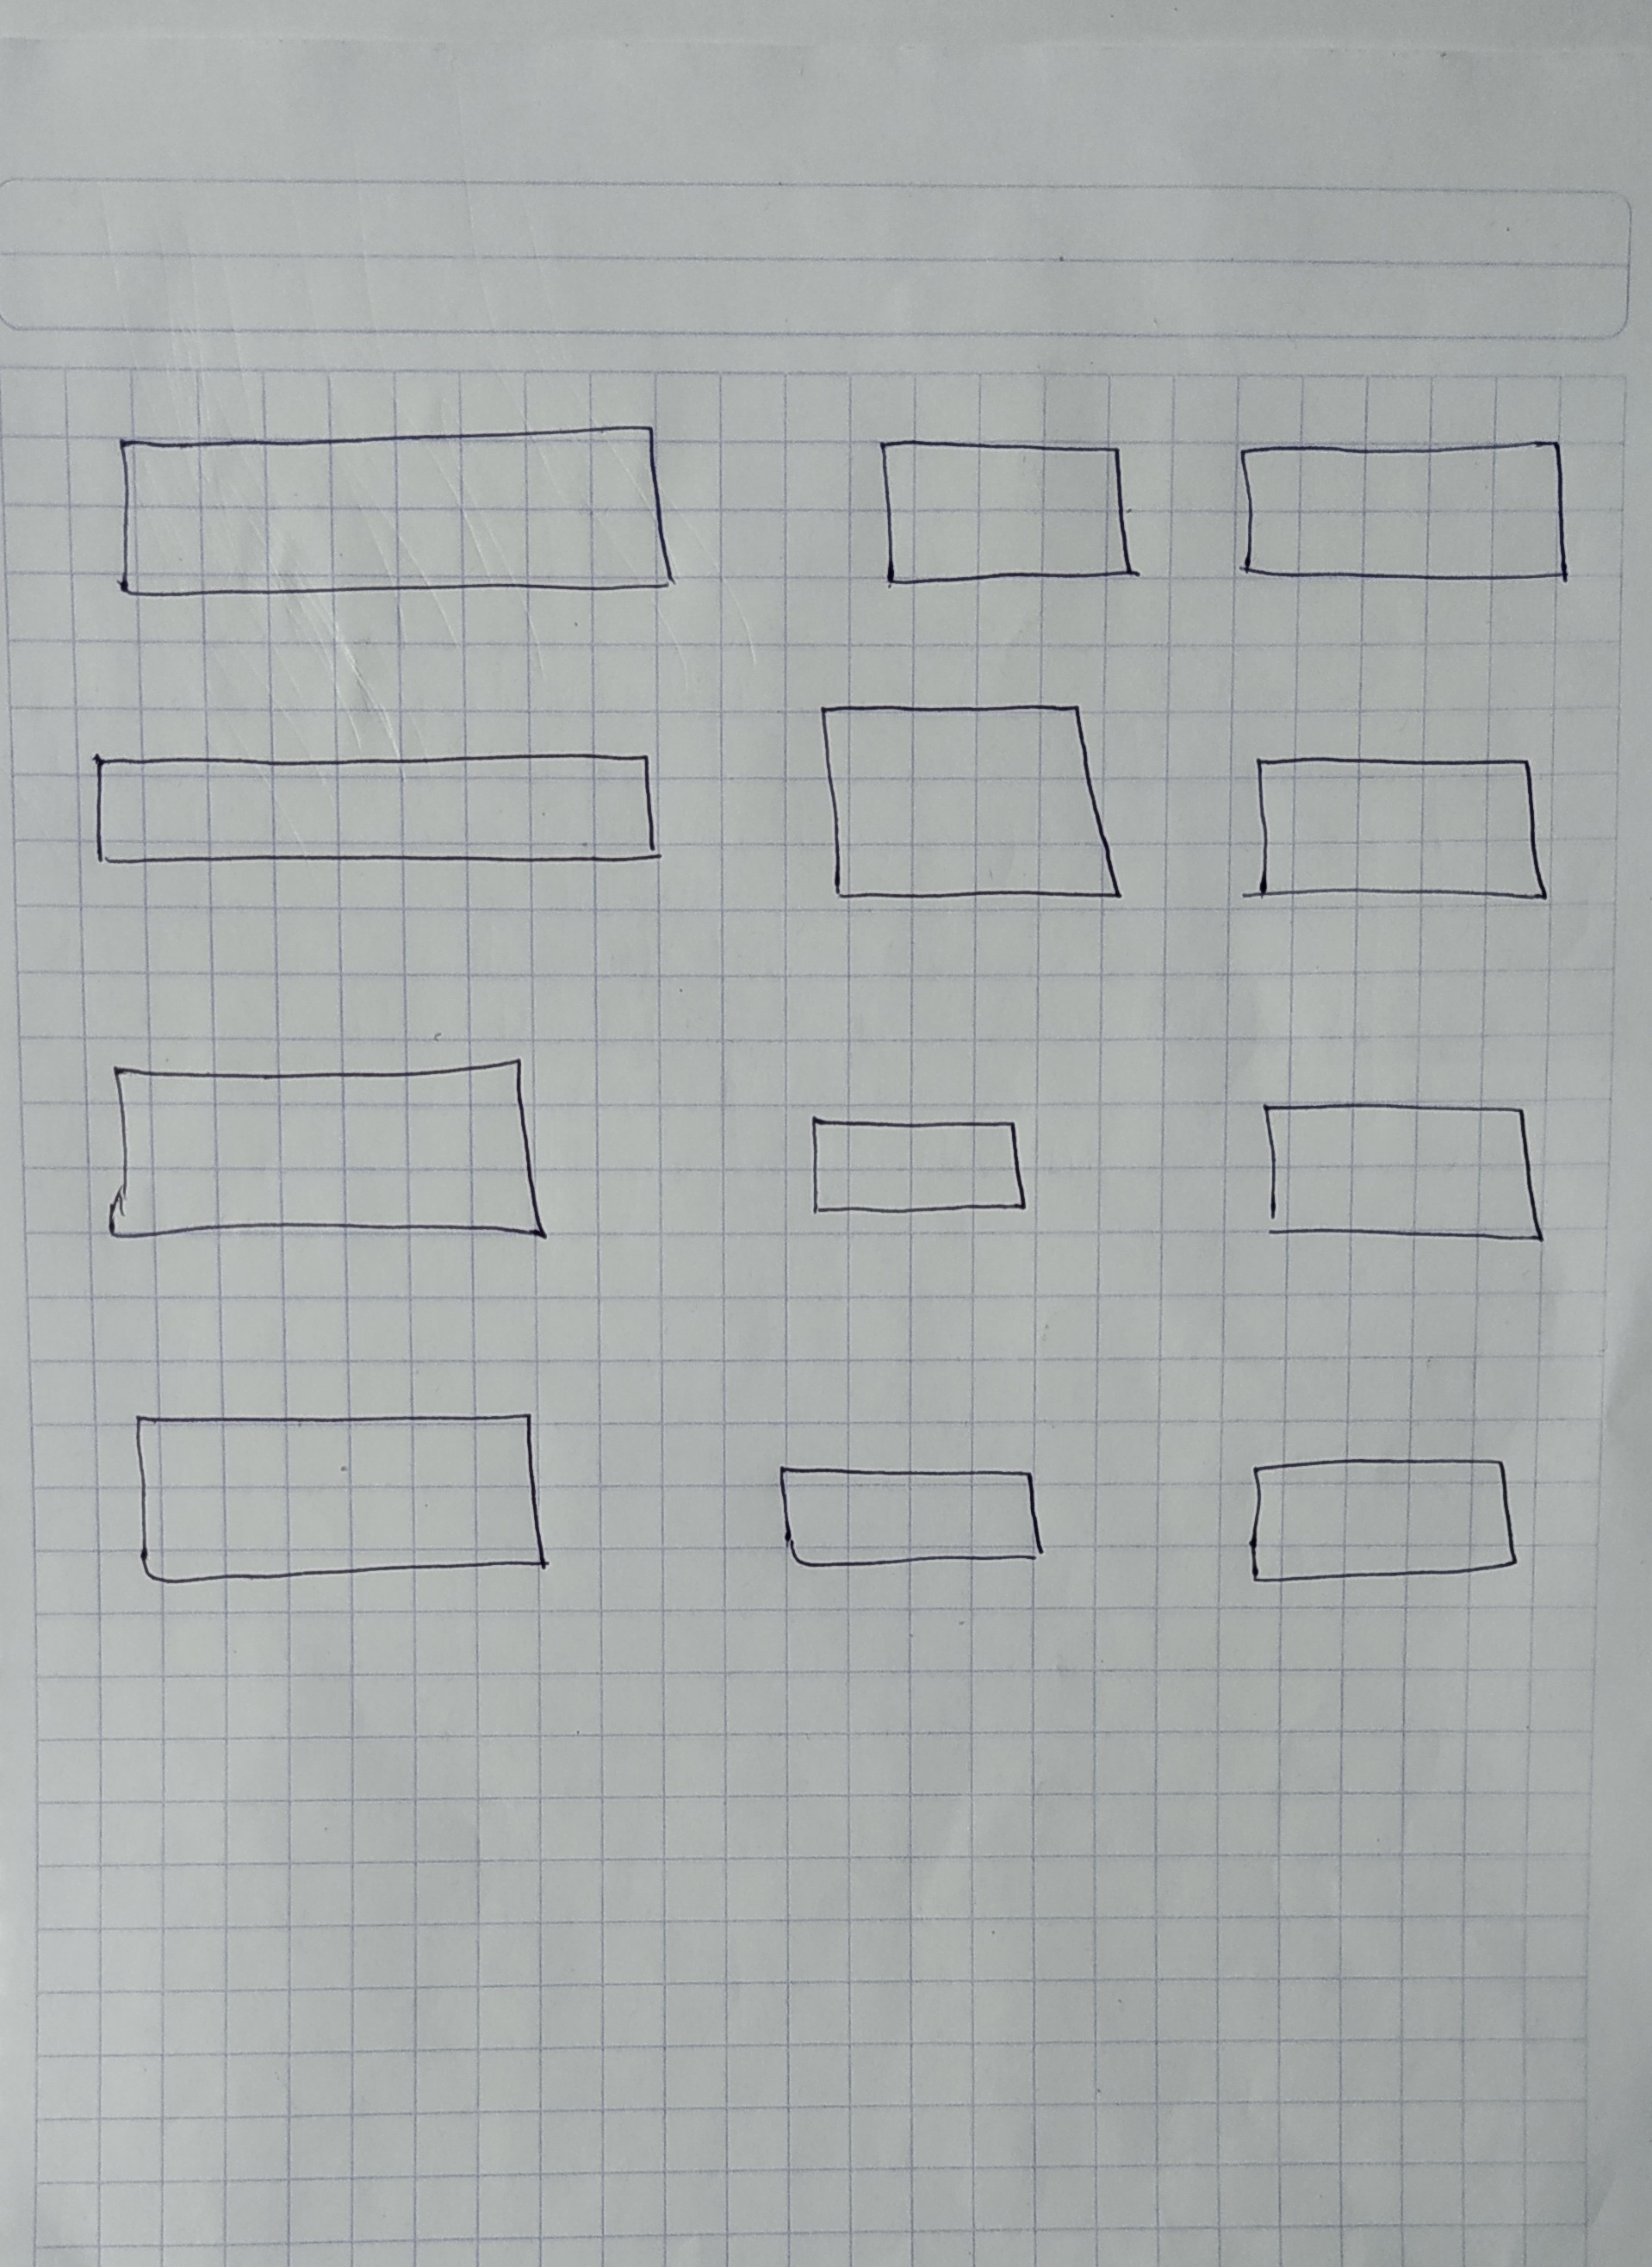process: (104, 414, 686, 618), (95, 1049, 559, 1257), (77, 732, 677, 887), (121, 1392, 561, 1593), (808, 685, 1135, 926), (1226, 422, 1585, 598), (1235, 732, 1561, 921), (1249, 1081, 1555, 1260), (864, 422, 1147, 598), (1239, 1442, 1532, 1596), (765, 1442, 1056, 1584), (800, 1093, 1043, 1237)
